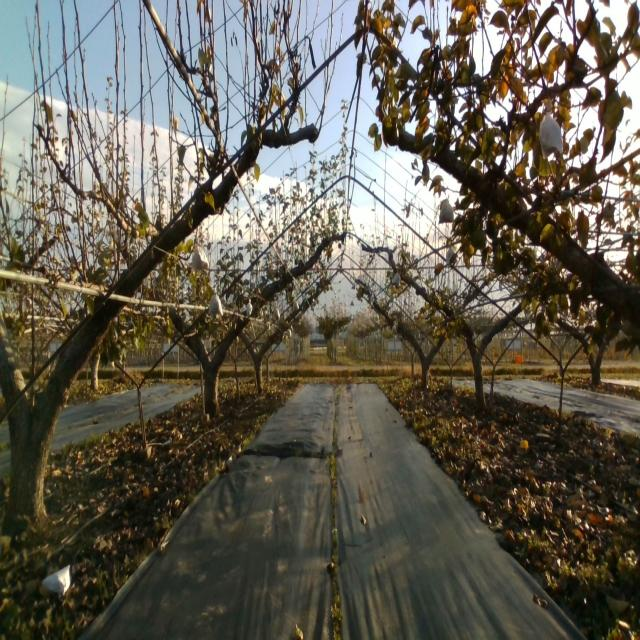pearbags: (539, 100, 563, 160), (191, 243, 210, 270), (438, 194, 454, 224), (208, 287, 223, 316), (446, 246, 457, 266)
